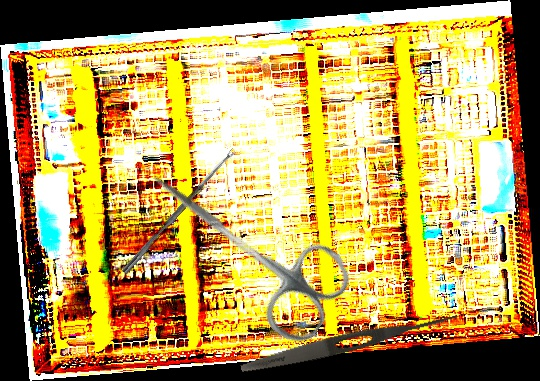Dressing Forceps: (238, 305, 461, 379)
Iris Scissors: (123, 140, 361, 351)
Surgical Spoon: (121, 147, 238, 276)
